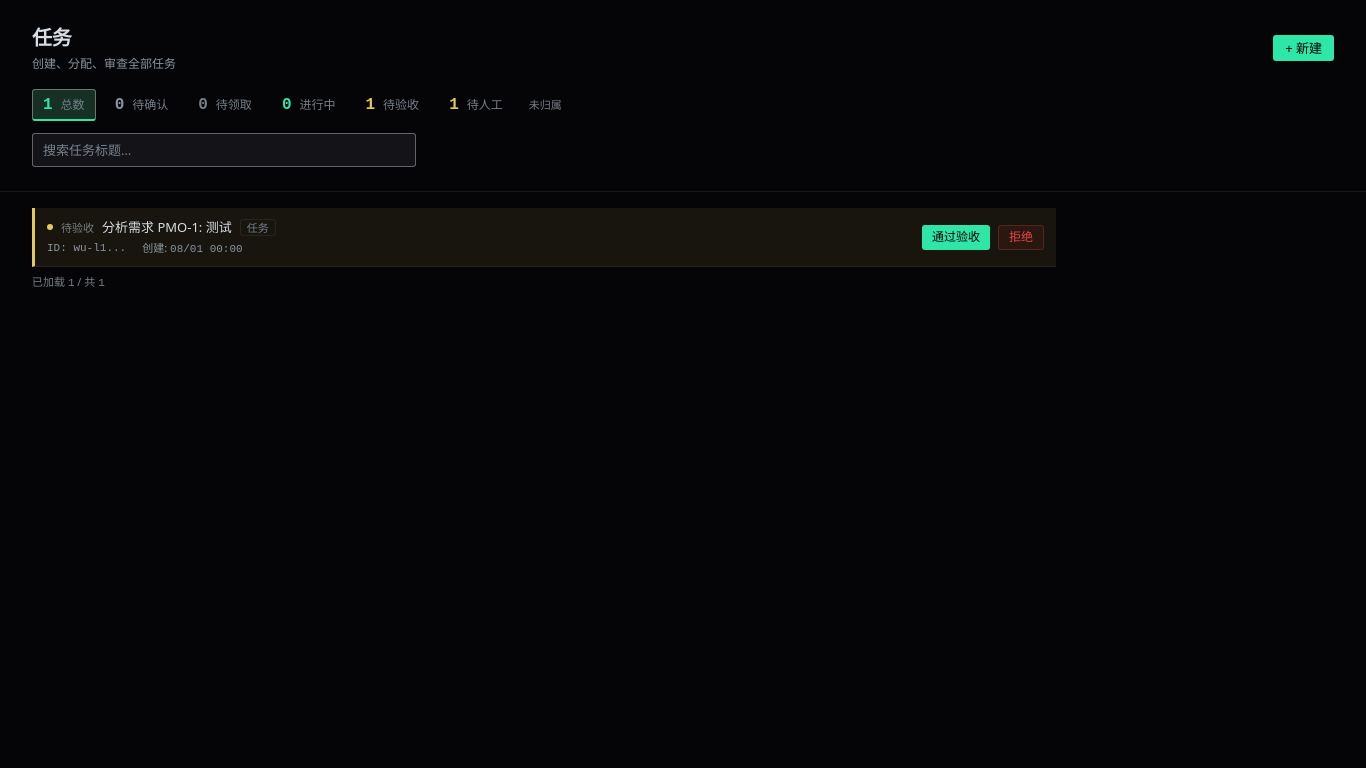
Test: WorkUnitListPage — 行闸门反馈兜底（批次A 项4 / E2-4） › 行「通过验收」pending 锁存：未结算前连击只调一次，按钮禁用
What coordinates should you click on to do the following:
click the button "通过验收"
I would click on:
 (956, 237)
Its box is [922,225,990,250].
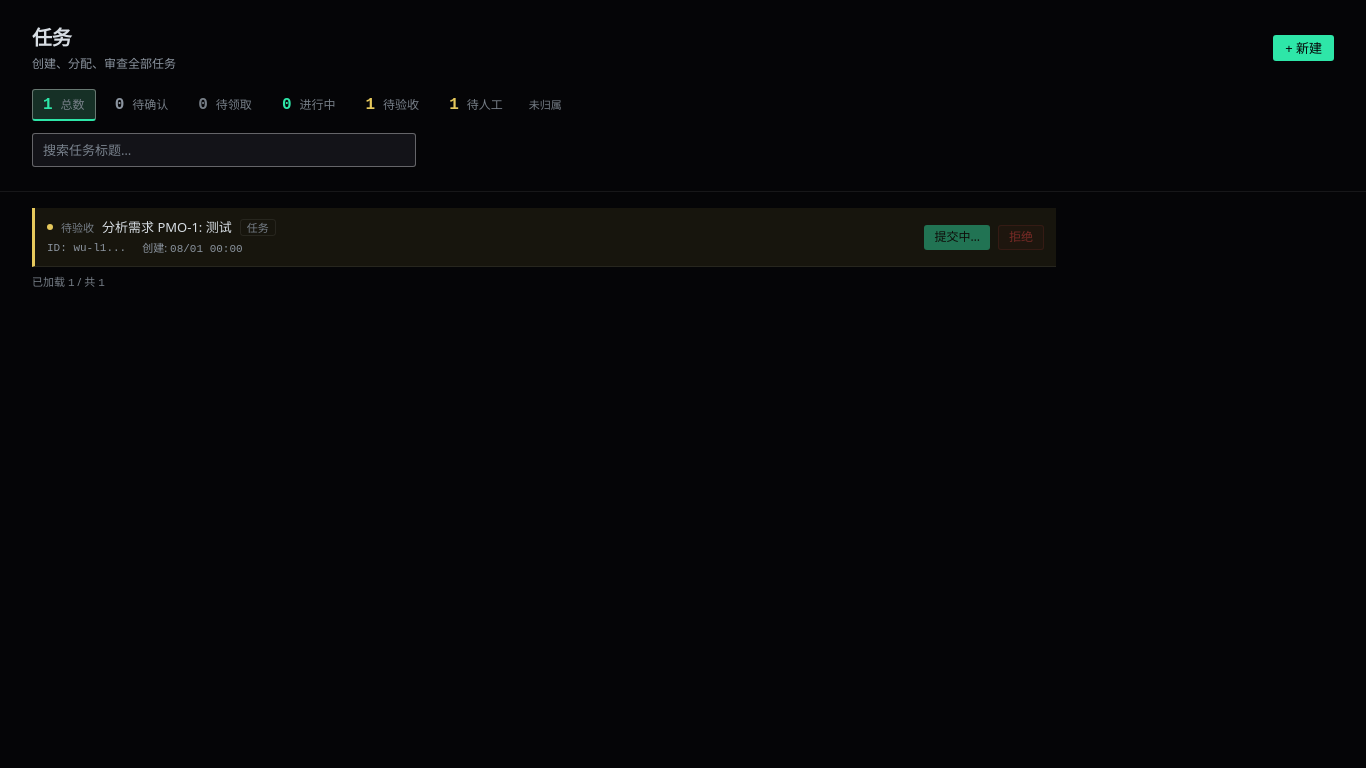
Now the button "通过验收" is disabled
Now the button "拒绝" is disabled, box [998,225,1044,250]
What coordinates should you click on to do the following:
click the button "通过验收"
I would click on:
 (957, 237)
Its box is [924,225,990,250].
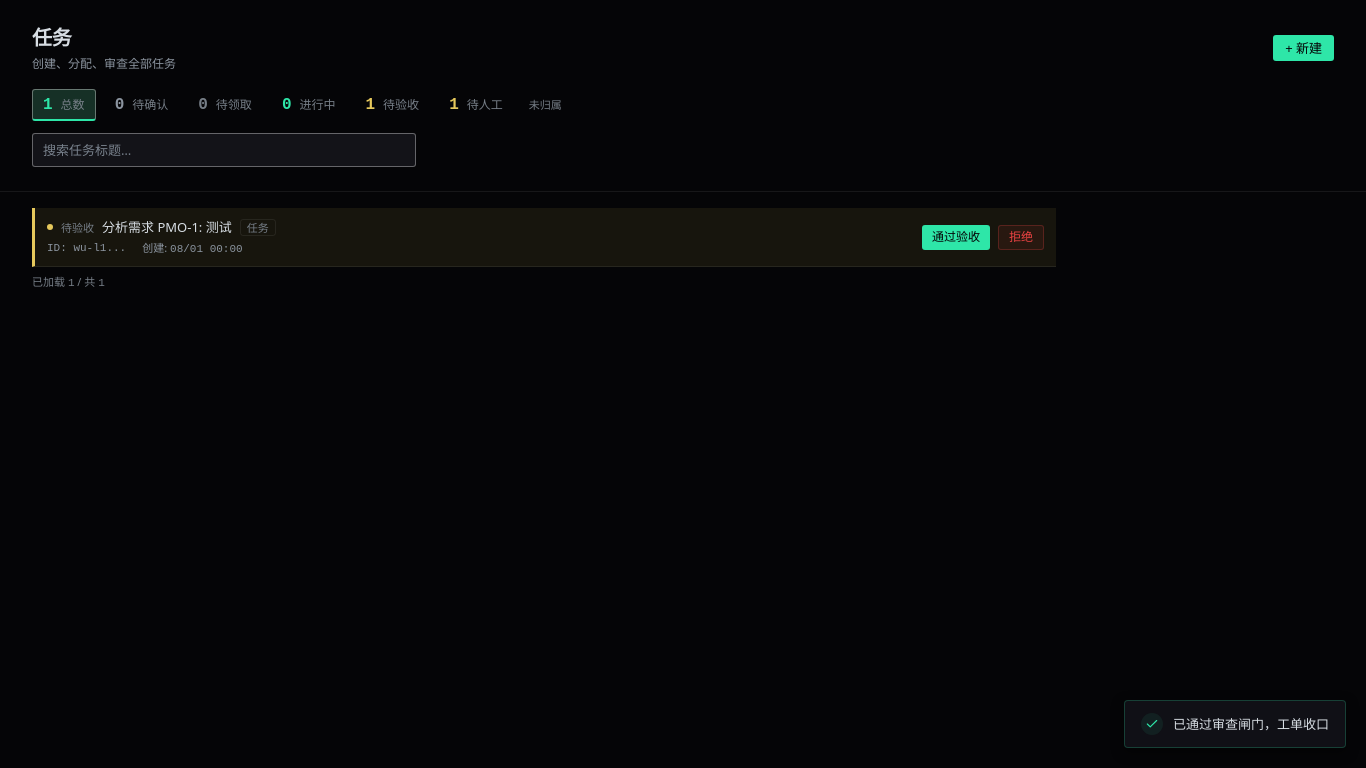
Now the button "通过验收" is enabled, box [922,225,990,250]
